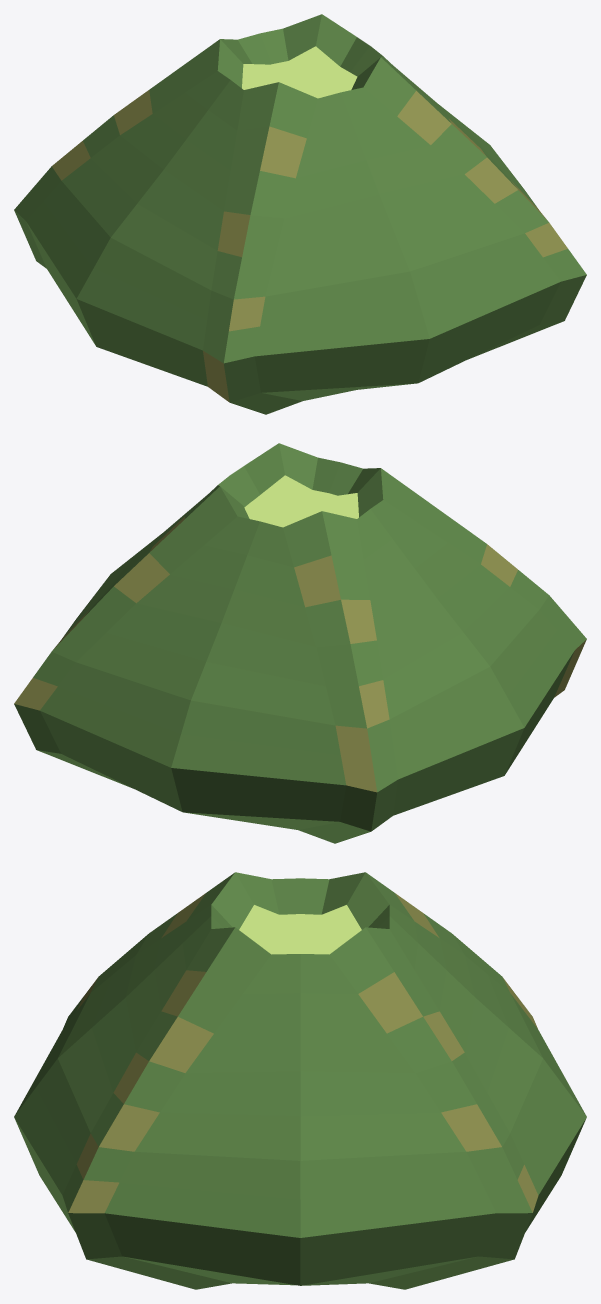
Rendered from cactus_shrub_.fbx.
3 renders of one model, top to bottom at view 1: azimuth 30°, elevation 25°; view 2: azimuth 150°, elevation 25°; view 3: azimuth 270°, elevation 25°, orthographic. The views are drawn at different scales.
Visible parts, largest first — view 1: CactusShrub; view 2: CactusShrub; view 3: CactusShrub.
Part boxes in pixels (x1,y1,x2,y2): CactusShrub: (14,14,586,414); CactusShrub: (14,443,586,843); CactusShrub: (14,872,586,1289).
Bounding box in the file's own units: 163 × 108 × 163.
